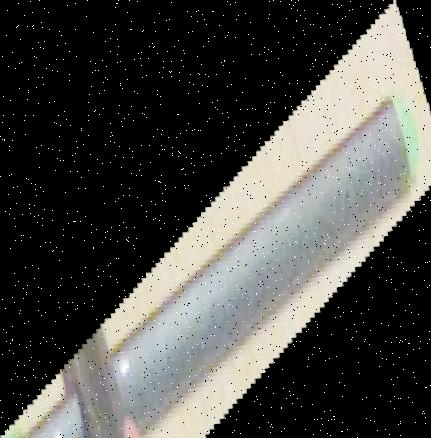green: (1, 1, 431, 438)
